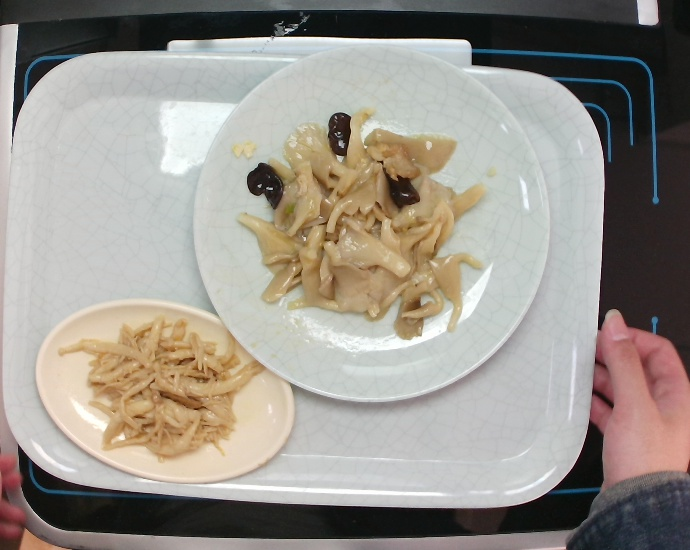JYsf-Da_Yuan_Pan: (186, 40, 554, 408)
JYsf-Tuo_Yuan_Wan: (31, 295, 298, 489)
